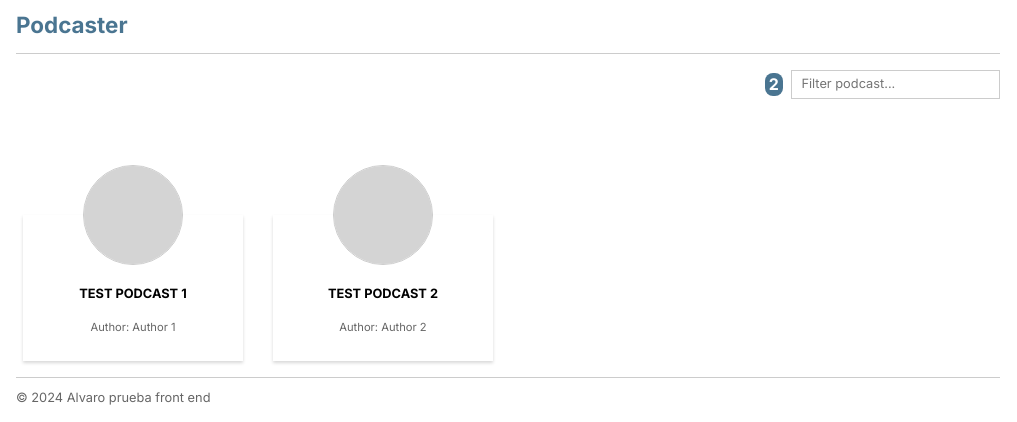
Test case: Filtrado podcasts › Filtra podcasts correctamente por autor
Expected: the text "Author: Author 1" is shown, x1=90 y1=320 x2=176 y2=334
// Simular escribir en el input de filtro el autor
Type "Author 1" into the field with placeholder "Filter podcast...".
click(895, 85); type("Author 1")  # box x1=791 y1=70 x2=1000 y2=99
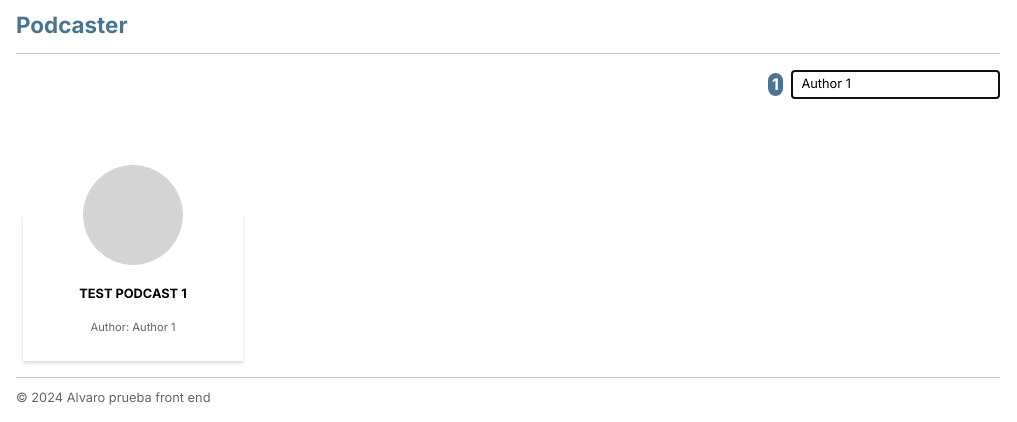
Expected: the text "Author: Author 1" is shown, x1=90 y1=320 x2=176 y2=334
Expected: the link "Author: Author 2" is gone
